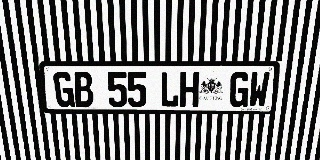5: (107, 72, 128, 107), (127, 72, 147, 107)
B: (73, 72, 94, 107)
G: (53, 72, 75, 107), (229, 72, 250, 107)
H: (180, 72, 199, 107)
L: (160, 72, 179, 107)
W: (248, 72, 270, 107)
